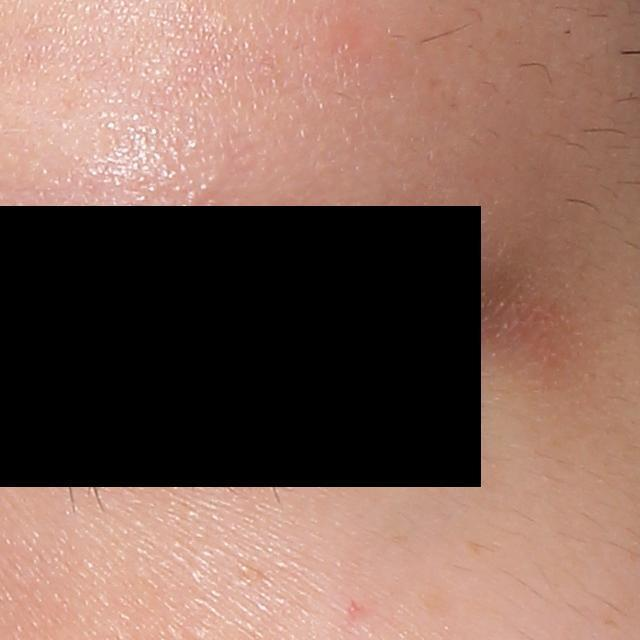melasma: (413, 585, 459, 621)
